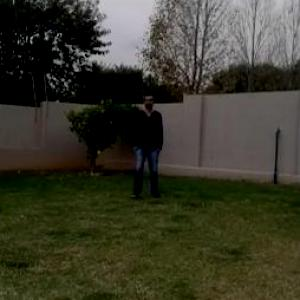follow: (135, 90, 163, 200)
